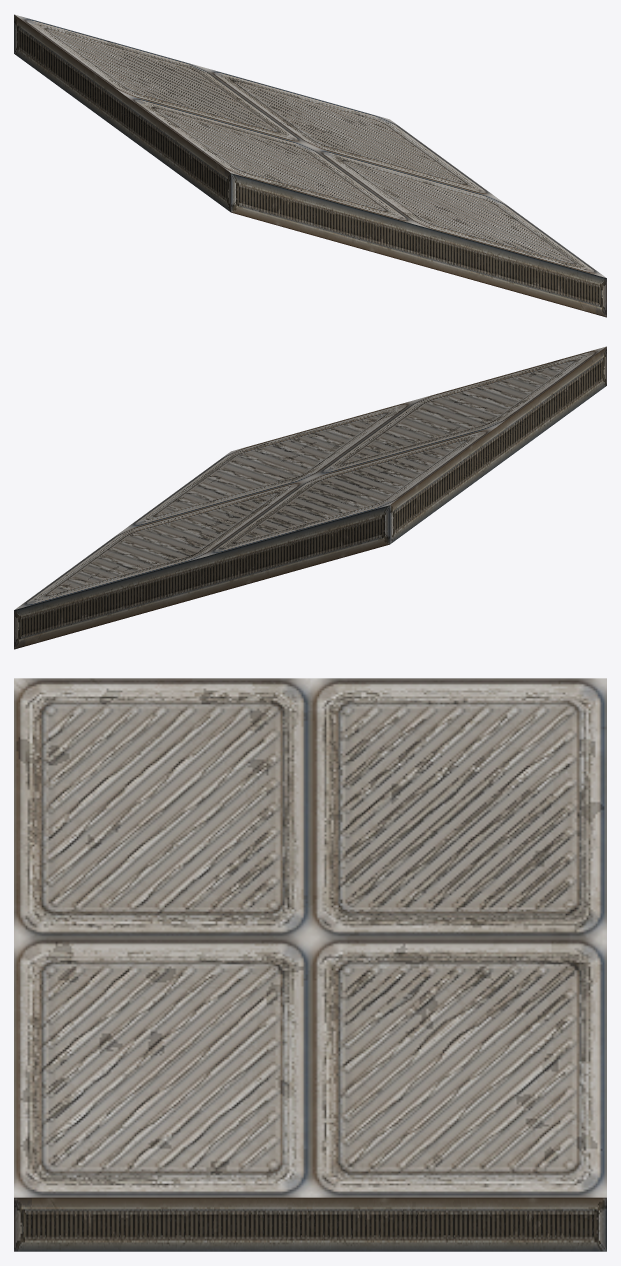
File: scifi_ramp1_8.FBX
3 renders of one model, top to bottom at view 1: azimuth 30°, elevation 25°; view 2: azimuth 150°, elevation 25°; view 3: azimuth 270°, elevation 25°, orthographic. The views are drawn at different scales.
Parts seen in each view (by area): view 1: Plane069; view 2: Plane069; view 3: Plane069.
Part boxes in pixels (x1=…): Plane069: x1=14, y1=14, x2=606, y2=317; Plane069: x1=14, y1=346, x2=606, y2=649; Plane069: x1=14, y1=678, x2=606, y2=1251.
Size of the model in its own units: 254 by 152 by 254.
